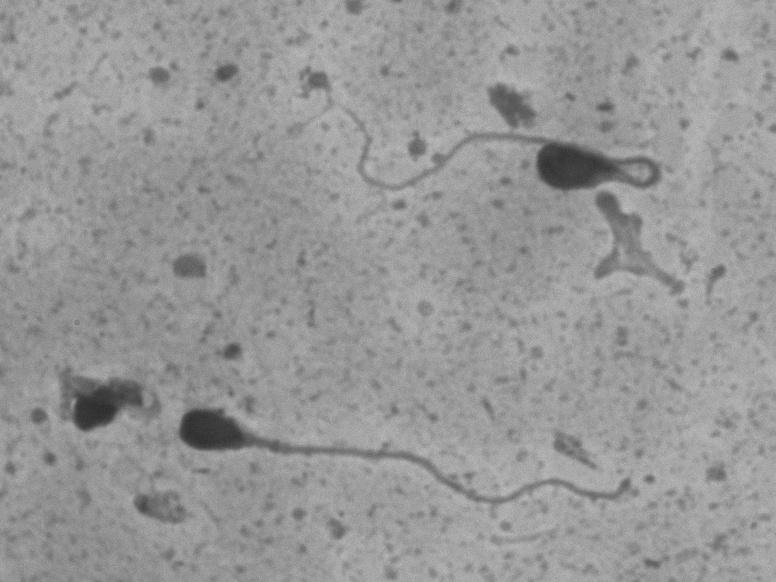Abnormal: (174, 402, 664, 526), (295, 82, 675, 210)
